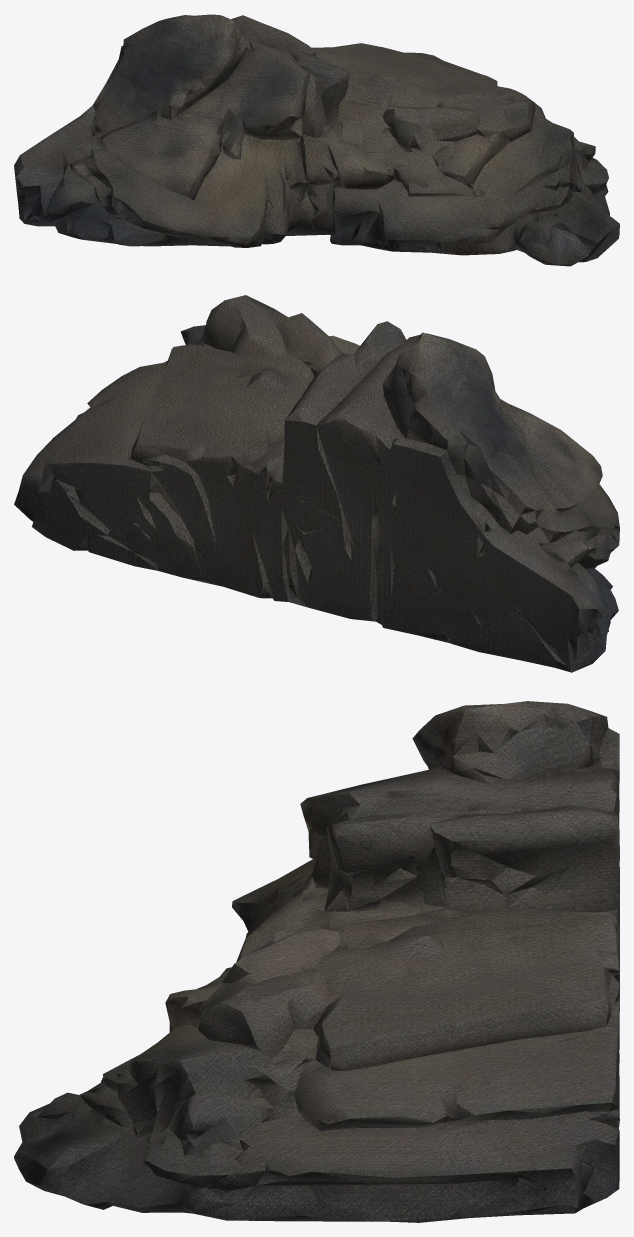
File: rock-r2.glb
3 renders of one model, top to bottom at view 1: azimuth 30°, elevation 25°; view 2: azimuth 150°, elevation 25°; view 3: azimuth 270°, elevation 25°, orthographic. The views are drawn at different scales.
Visible parts, largest first — view 1: Mesh; view 2: Mesh; view 3: Mesh.
Boxes of the visible parts, left/top/right/bottom form: Mesh: left=14, top=14, right=619, bottom=266; Mesh: left=14, top=295, right=619, bottom=672; Mesh: left=14, top=701, right=619, bottom=1222.
Size of the model in its own units: 1.8 by 0.7046 by 1.28.
1 material, 1 textured.
